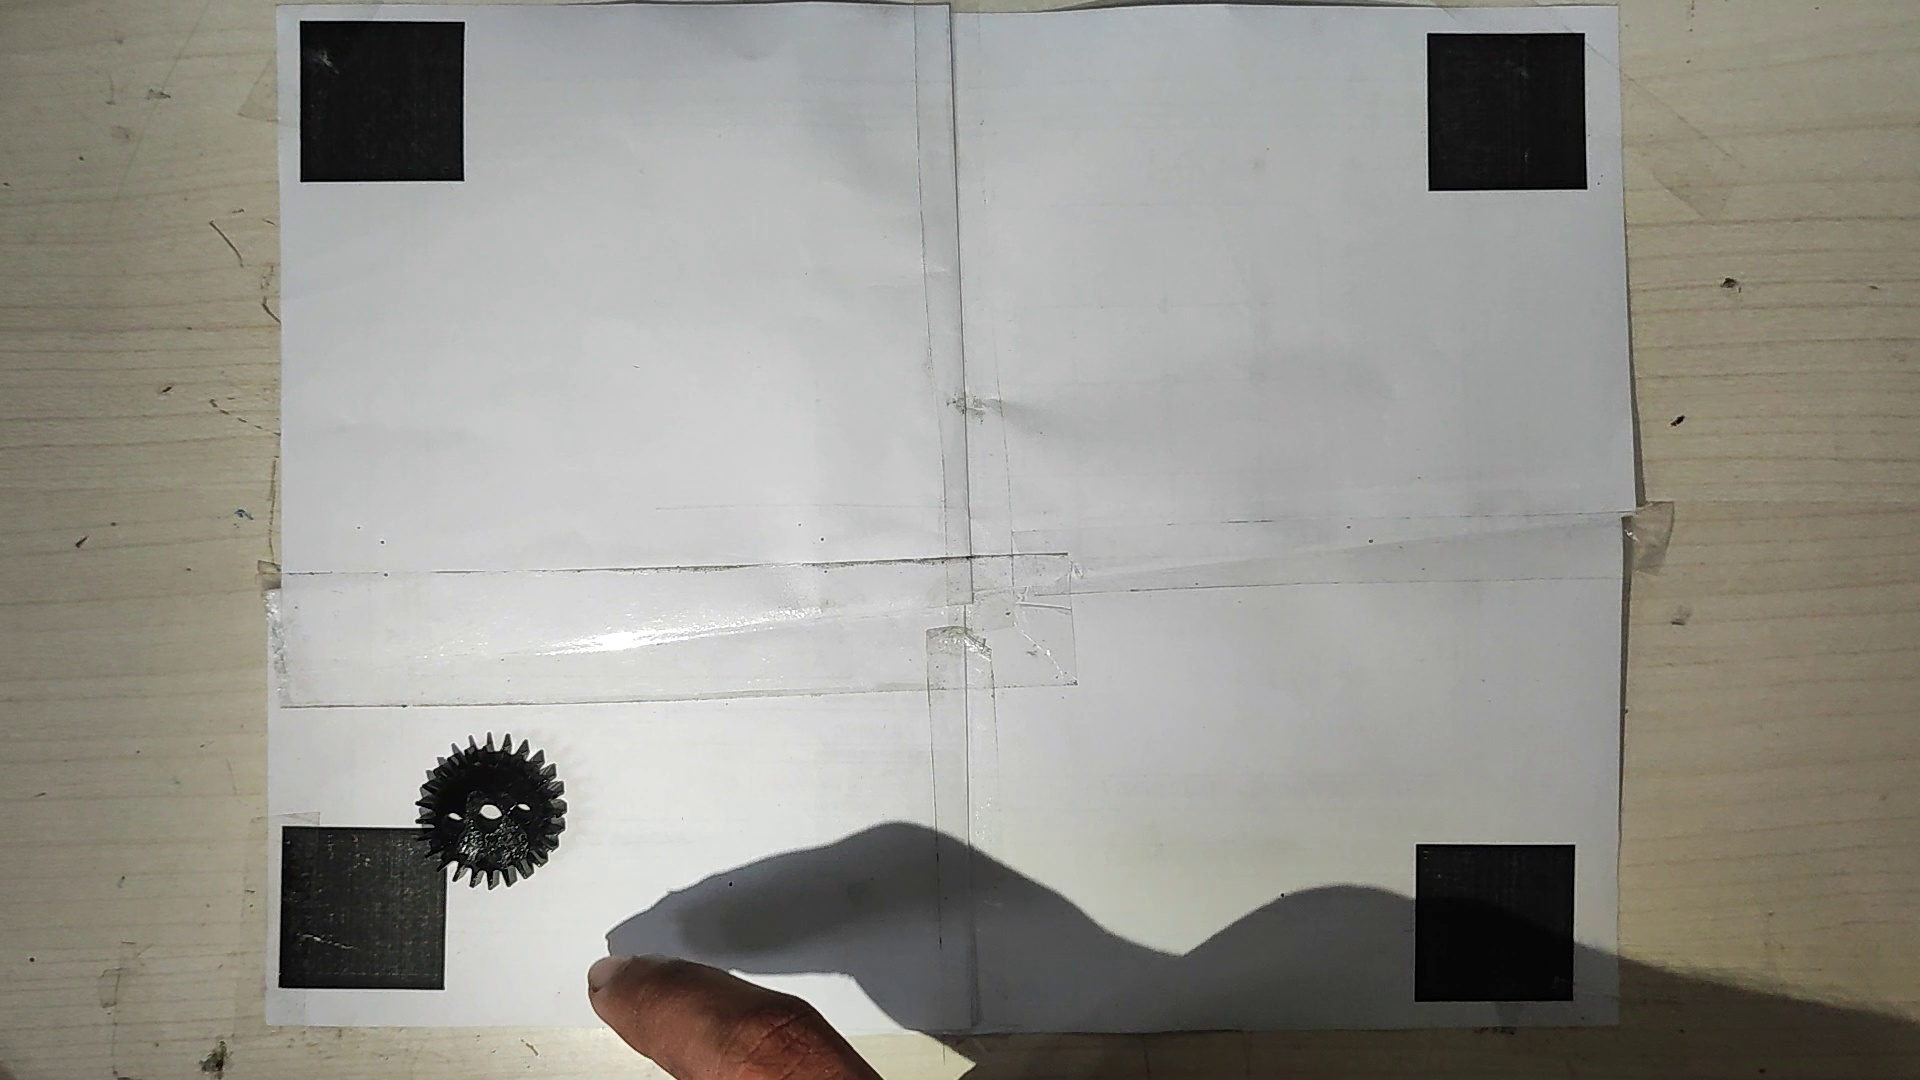Gear: (409, 723, 571, 891)
